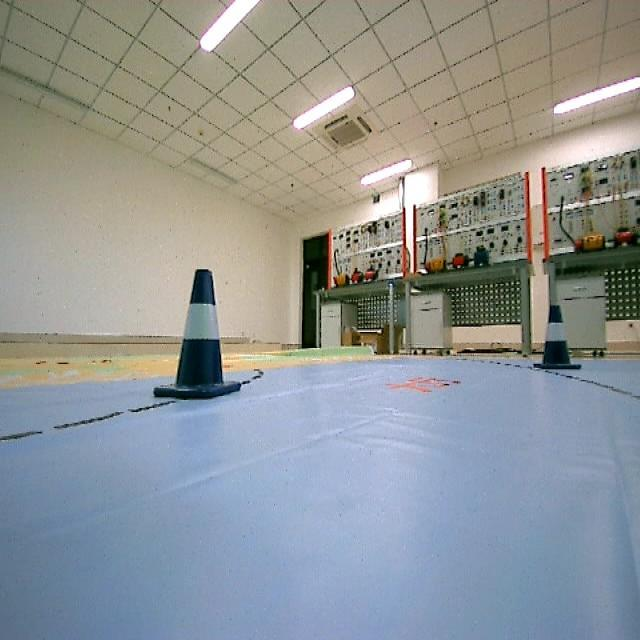obstacle: (148, 262, 254, 408), (532, 300, 586, 378)
